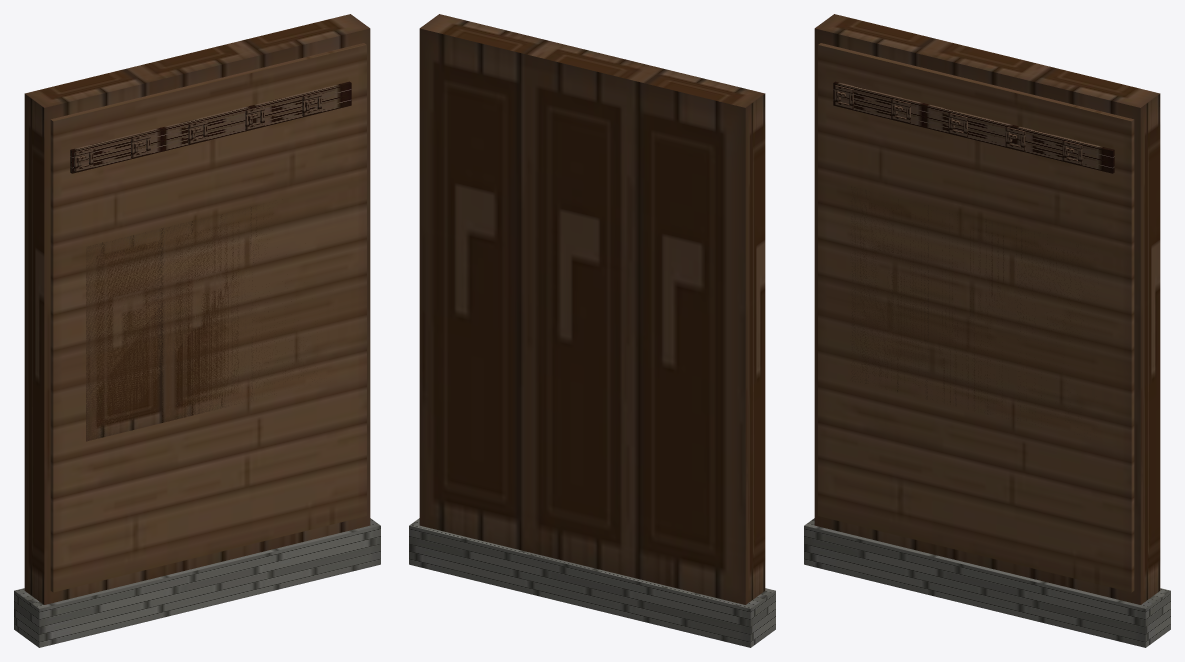
File: ae_duel_wood_wall_panel_lod1.glb
3 renders of one model, left to right at view 1: azimuth 30°, elevation 25°; view 2: azimuth 150°, elevation 25°; view 3: azimuth 330°, elevation 25°, orthographic.
Parts seen in each view (by area): view 1: ae_duel_wood_wall_panel_lod1; view 2: ae_duel_wood_wall_panel_lod1; view 3: ae_duel_wood_wall_panel_lod1.
Boxes of the visible parts, x1,y1,x2,y2 form: ae_duel_wood_wall_panel_lod1: (14, 14, 380, 647); ae_duel_wood_wall_panel_lod1: (409, 14, 775, 647); ae_duel_wood_wall_panel_lod1: (804, 14, 1170, 647).
Size of the model in its own units: 2.2 by 3.3 by 0.3191.
1 material, 1 textured.
